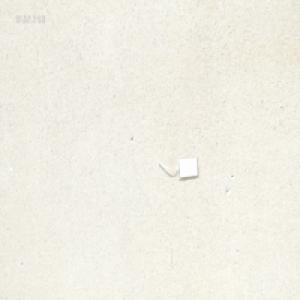LuggageTag: (157, 154, 198, 181)
